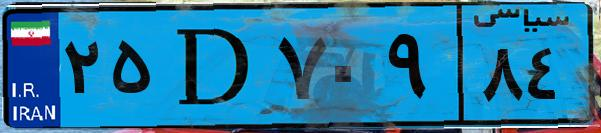0: (330, 28, 385, 110)
2: (57, 26, 110, 100)
4: (525, 38, 570, 115)
5: (110, 28, 158, 98)
7: (270, 28, 330, 110)
8: (475, 38, 525, 113)
9: (385, 28, 445, 110)
D: (158, 12, 270, 120)
